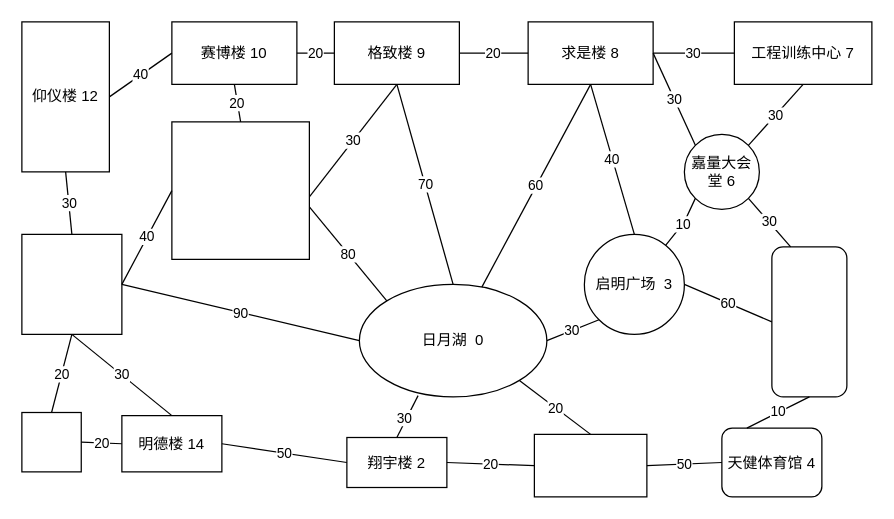
This 894x519 diagram has some shape labels left out. The shapes that lost their labels are listed below. From the top down, each one's centre as x and y in pixels, then its label:
At pixel 240 190: "图书馆 11".
At pixel 71 283: "方圆楼 13".
At pixel 809 321: "操场 5".
At pixel 51 441: "闻厅 15".
At pixel 590 465: "环宇楼 1".
